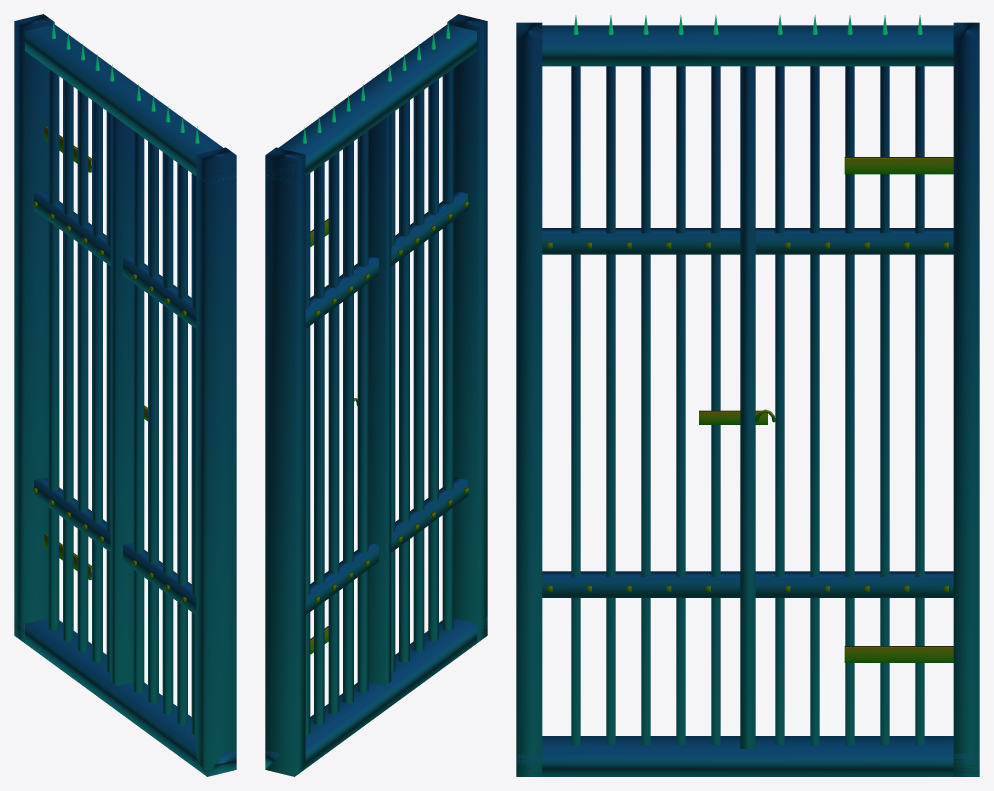
File: flue_gate.glb
3 views of the same model, side by side, from view 1: azimuth 30°, elevation 25°; view 2: azimuth 150°, elevation 25°; view 3: azimuth 270°, elevation 25° (orthographic). The views are drawn at different scales.
Visible parts, largest first — view 1: flue_gate; view 2: flue_gate; view 3: flue_gate.
Part boxes in pixels (x1=…): flue_gate: x1=14, y1=14, x2=236, y2=776; flue_gate: x1=265, y1=14, x2=487, y2=776; flue_gate: x1=516, y1=15, x2=979, y2=776.
Size of what is drawn, in the model's own units: 0.1459 by 2.85 by 1.59.
